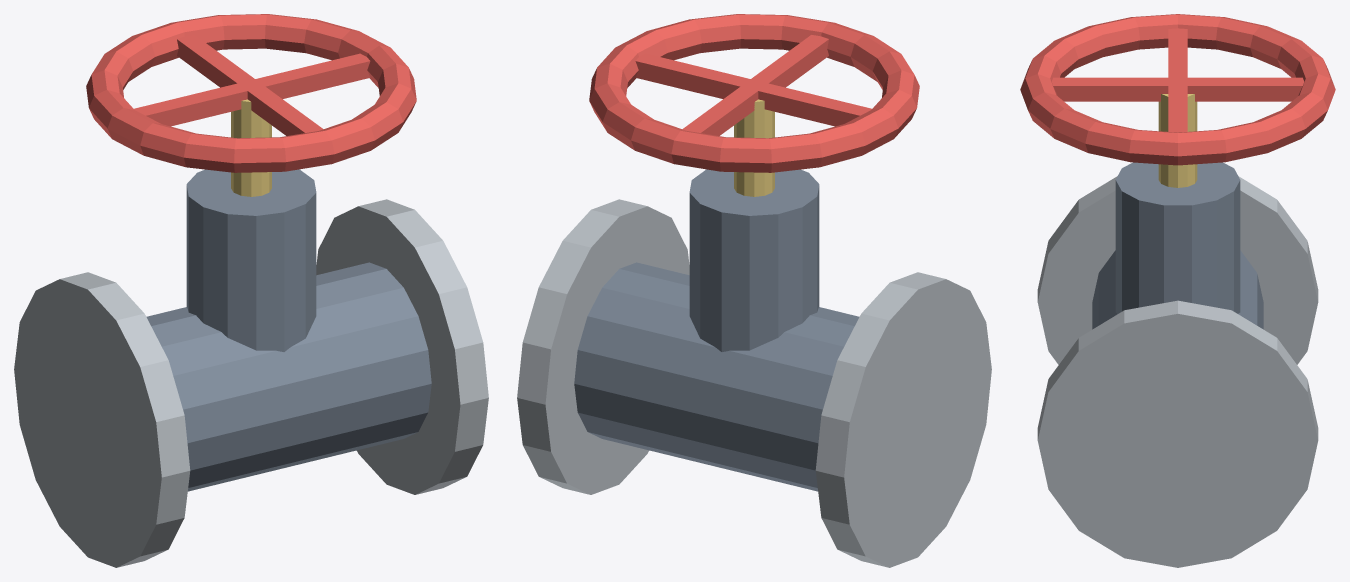
The model's file is valve_assembly.glb.
3 views of the same model, side by side, from view 1: azimuth 30°, elevation 25°; view 2: azimuth 150°, elevation 25°; view 3: azimuth 270°, elevation 25° (orthographic). The views are drawn at different scales.
Parts seen in each view (by area): view 1: FlangeL, ValveBody, Handwheel, FlangeR, Bonnet, Spoke1, Spoke2, Stem; view 2: FlangeL, ValveBody, Handwheel, FlangeR, Bonnet, Spoke1, Spoke2, Stem; view 3: FlangeR, Handwheel, FlangeL, Bonnet, Spoke2, ValveBody, Spoke1, Stem.
Part boxes in pixels (x1,y1,x2,y2): FlangeL: (14,272,190,567); ValveBody: (146,262,431,491); Handwheel: (86,14,416,172); FlangeR: (316,199,488,494); Bonnet: (186,169,316,351); Spoke1: (134,53,370,126); Spoke2: (177,35,323,135); Stem: (231,99,271,196); FlangeL: (815,272,991,567); ValveBody: (574,262,859,491); Handwheel: (589,14,919,172); FlangeR: (517,199,689,494); Bonnet: (689,169,819,351); Spoke1: (635,53,871,126); Spoke2: (682,35,828,135); Stem: (734,99,774,196); FlangeR: (1037,300,1318,567); Handwheel: (1020,14,1335,165); FlangeL: (1037,176,1318,364); Bonnet: (1115,162,1240,313); Spoke2: (1051,77,1304,101); ValveBody: (1092,250,1263,329); Spoke1: (1168,28,1187,132); Stem: (1158,94,1197,187).
Size of the model in its own units: 0.92 by 1.18 by 0.81.
